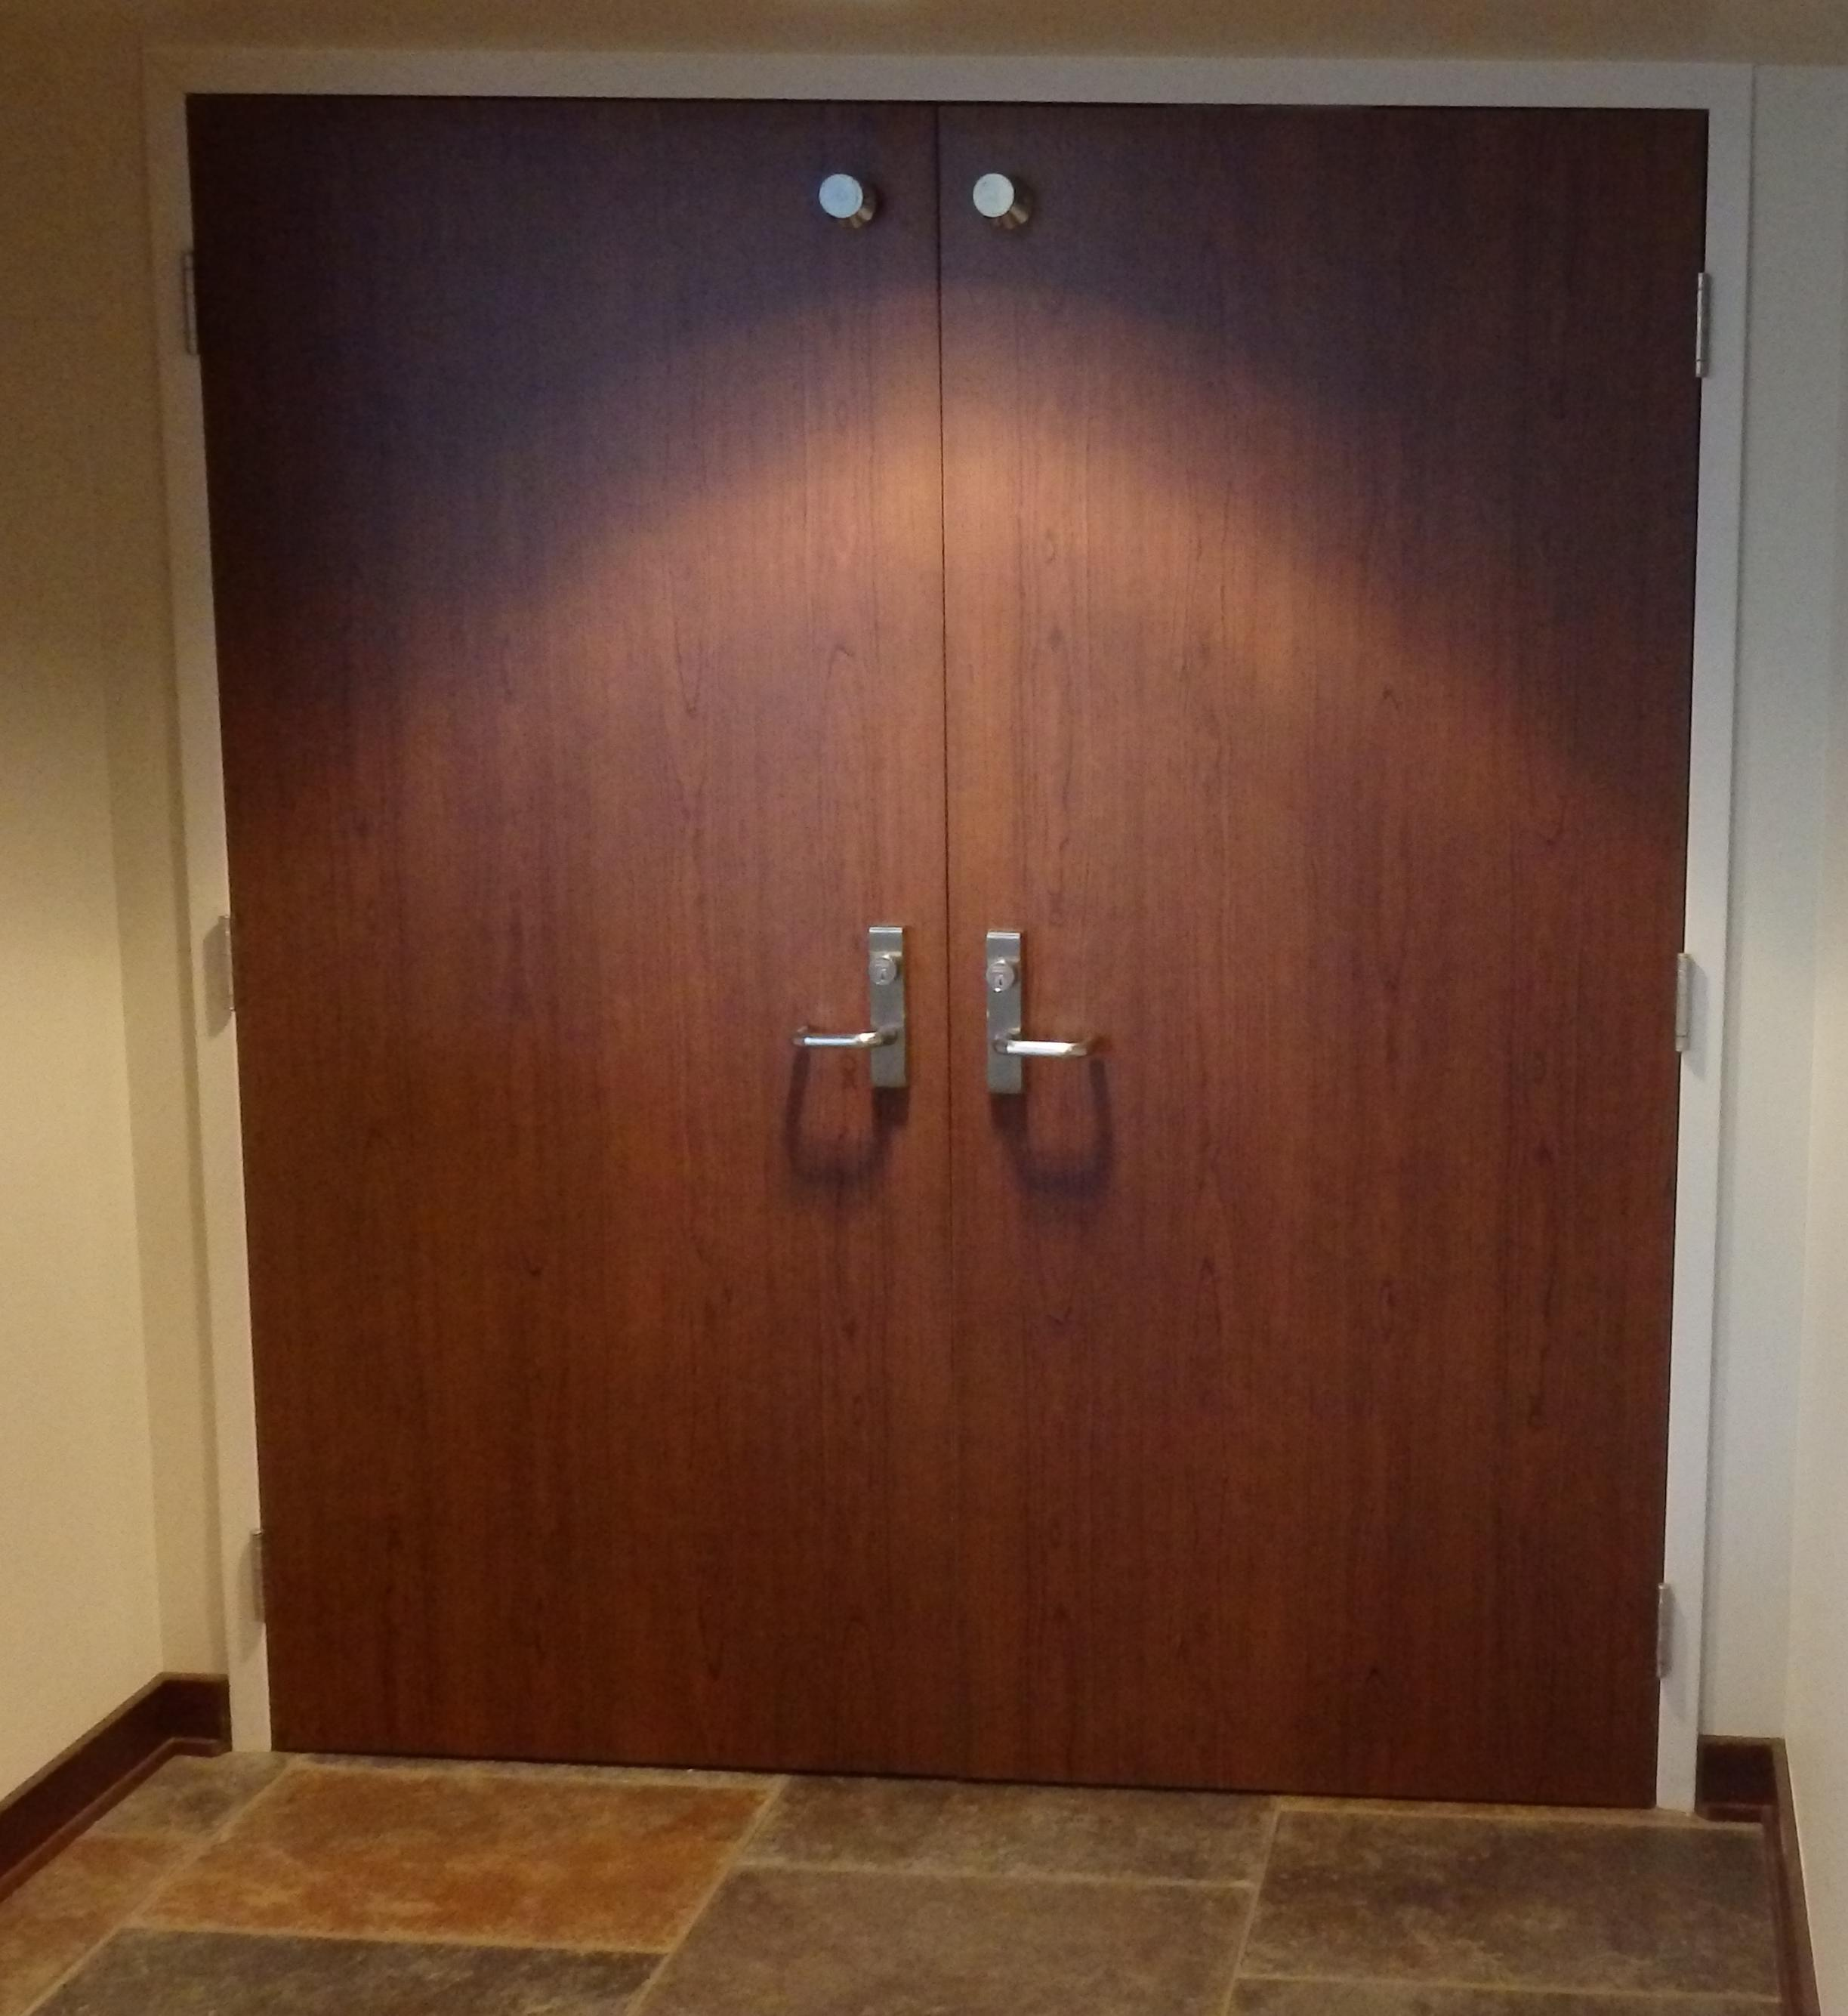door: (140, 47, 1708, 1844)
